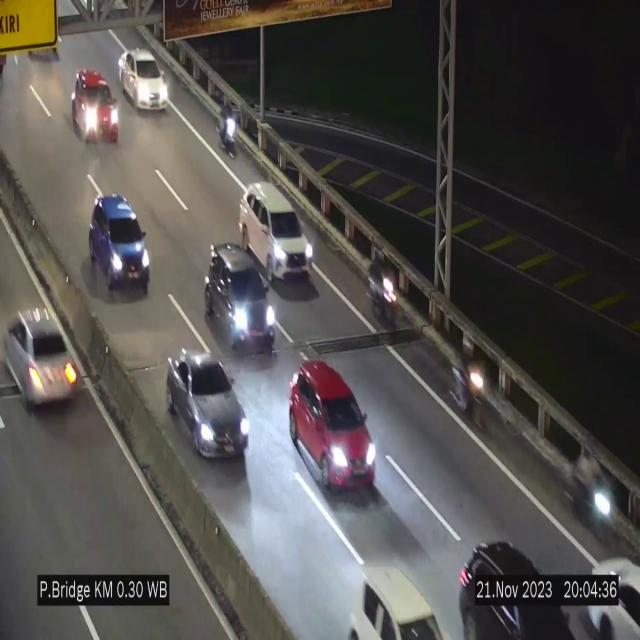Car: (453, 525, 581, 640), (289, 360, 375, 492), (0, 297, 85, 421), (340, 552, 448, 640), (167, 351, 247, 457), (204, 241, 276, 351), (240, 182, 314, 278), (88, 194, 150, 294), (578, 539, 639, 640), (75, 61, 117, 150), (118, 48, 169, 112)
Motorcycle: (567, 435, 613, 552), (452, 334, 489, 435), (370, 246, 400, 339), (218, 97, 238, 159)
